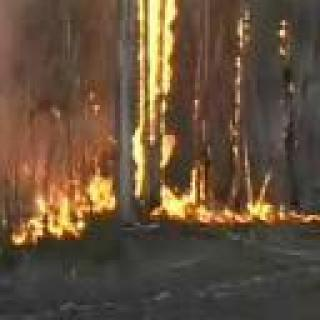fire: (238, 21, 311, 231), (148, 0, 193, 239), (17, 170, 111, 251)
